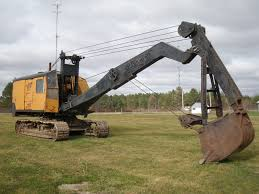excavator: (9, 18, 256, 168)
